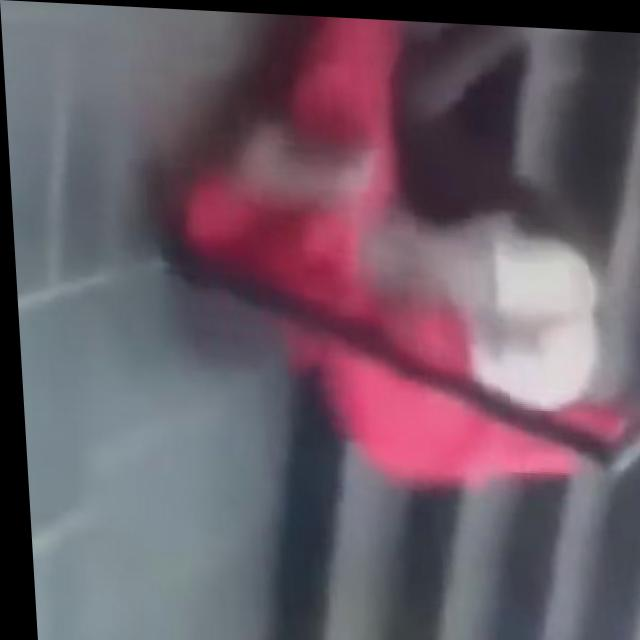fall: (153, 8, 640, 481)
